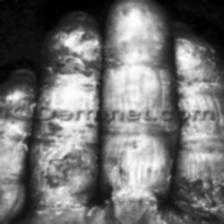Non-Cancerous Skin Condition: (0, 0, 224, 106), (14, 134, 224, 224)
